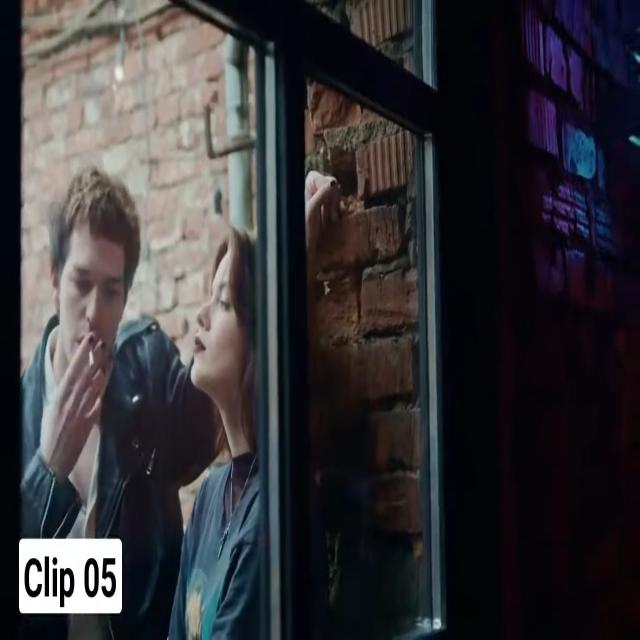Курение: (84, 344, 98, 374)
